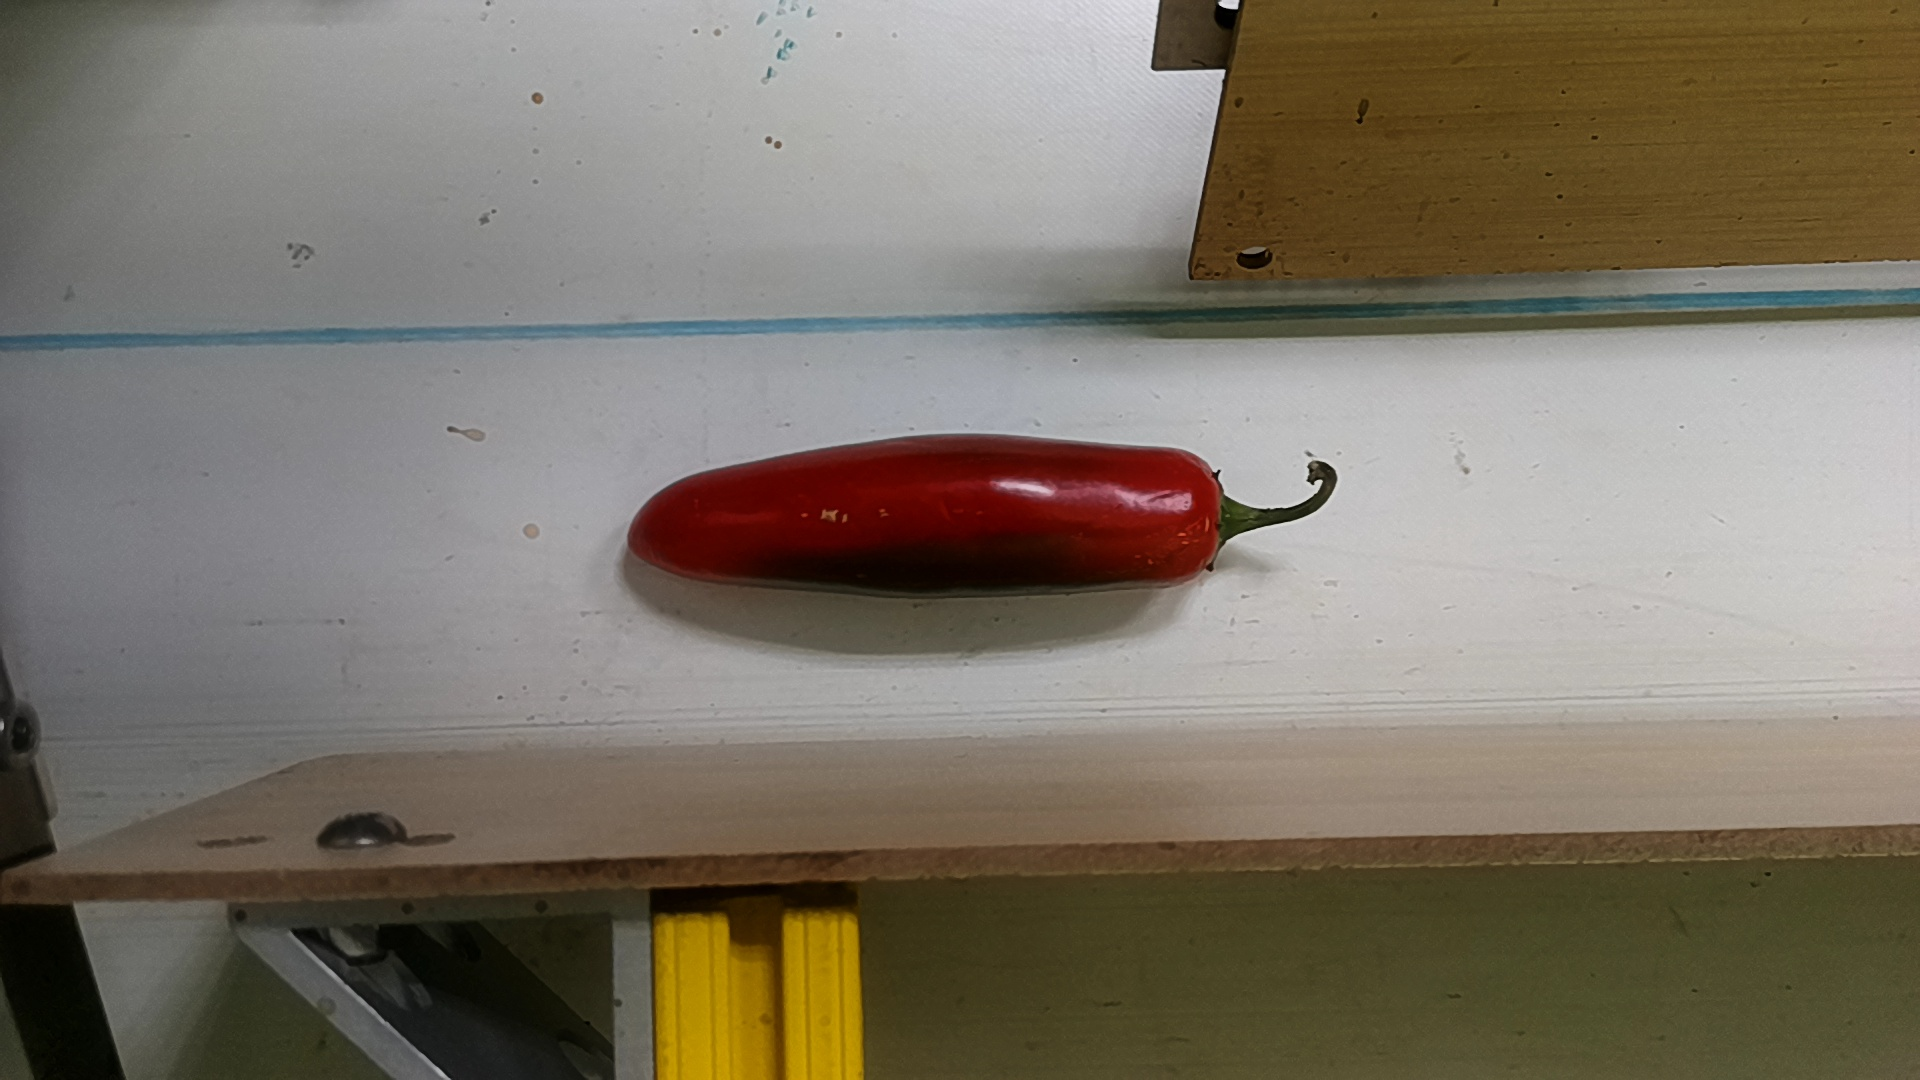Cut Point: (1167, 443, 1247, 591)
